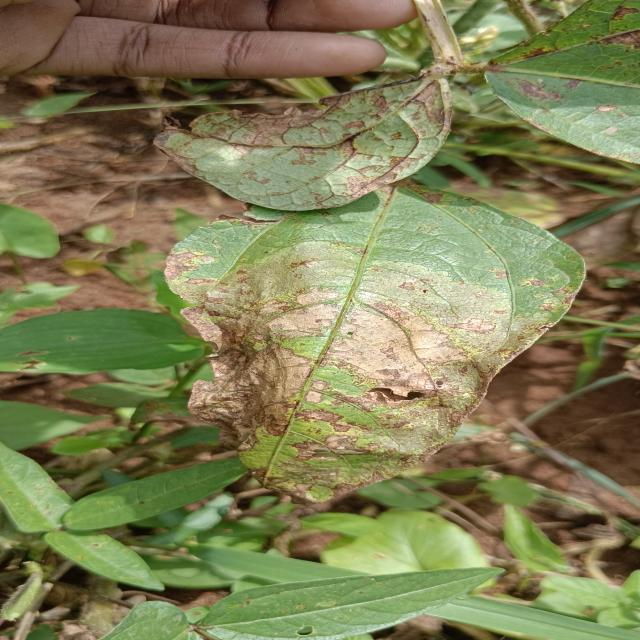Black gram_leaf spot: (164, 183, 582, 488), (140, 82, 456, 205), (468, 0, 640, 166)
